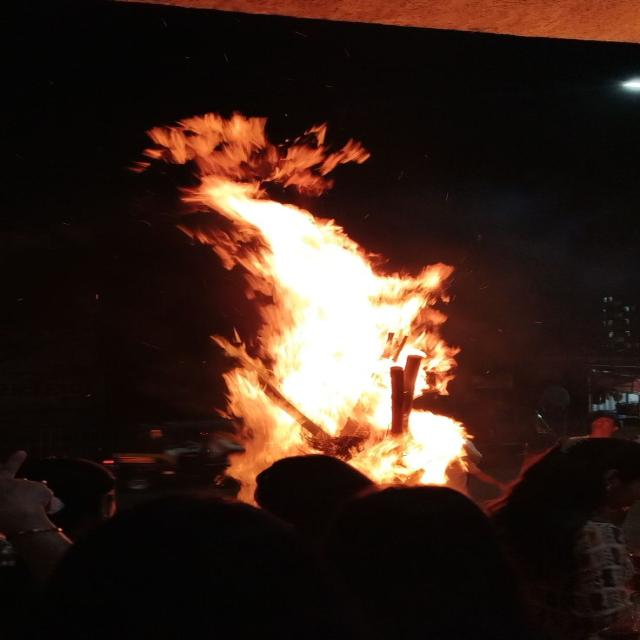fire: (137, 112, 472, 497)
